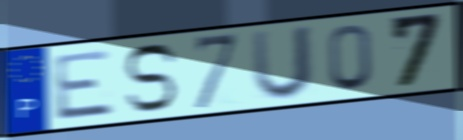0: (326, 23, 375, 93)
7: (387, 11, 444, 91), (193, 31, 243, 112)
E: (51, 47, 117, 123)
S: (121, 42, 180, 115)
U: (249, 23, 316, 103)
